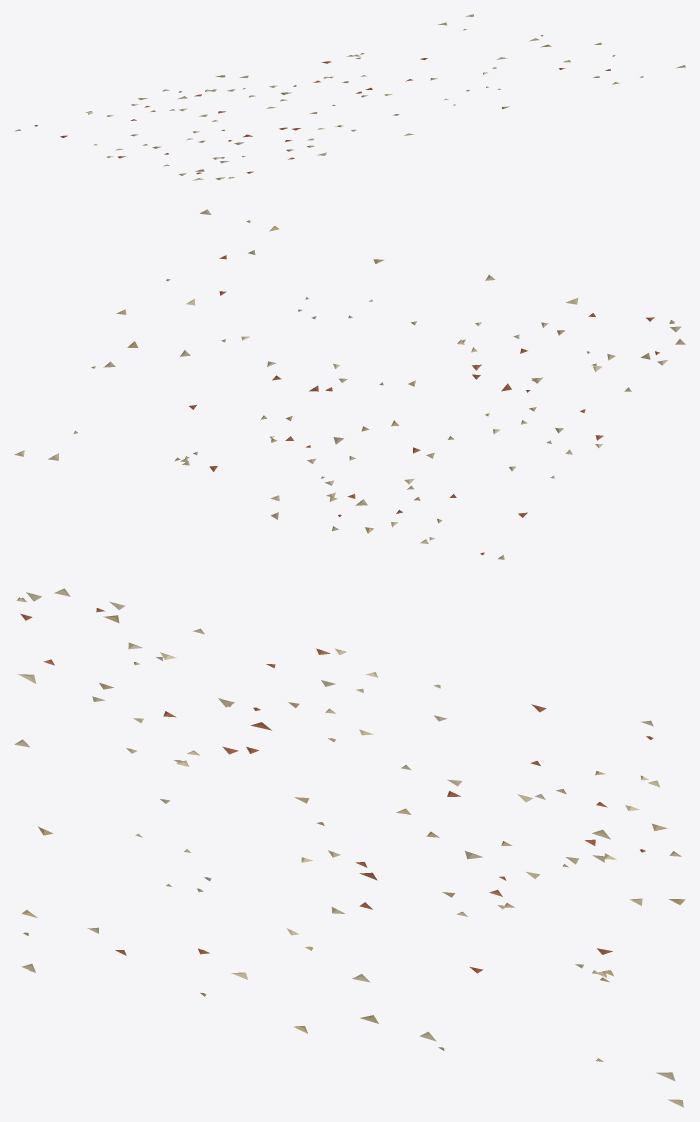
Rendered from dam_shelf_lip_detail2.glb.
3 views of the same model, one above another, from view 1: azimuth 30°, elevation 25°; view 2: azimuth 150°, elevation 25°; view 3: azimuth 270°, elevation 25° (orthographic). The views are drawn at different scales.
Parts seen in each view (by area): view 1: dam_shelf_lip_detail2; view 2: dam_shelf_lip_detail2; view 3: dam_shelf_lip_detail2.
Boxes of the visible parts, <box> form: dam_shelf_lip_detail2: <box>14,14,685,180</box>; dam_shelf_lip_detail2: <box>14,209,685,559</box>; dam_shelf_lip_detail2: <box>14,588,685,1107</box>.
Bounding box in the file's own units: 27.31 × 4.97 × 19.82.
